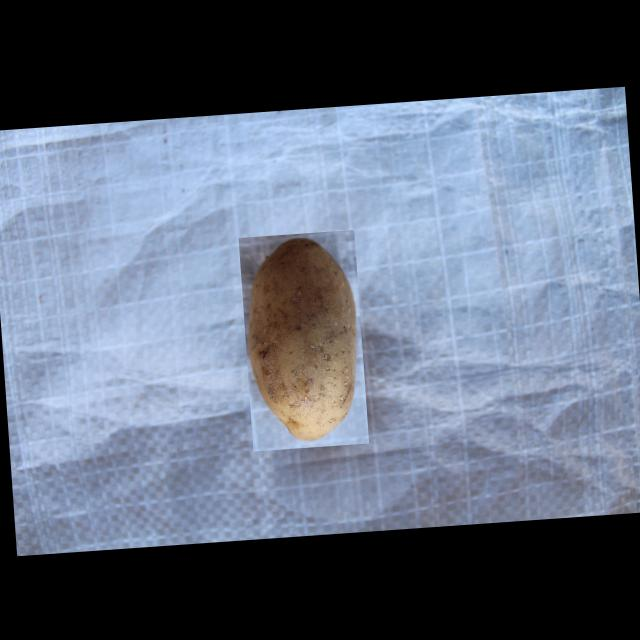Diseased-fungal potato: (237, 228, 368, 451)
